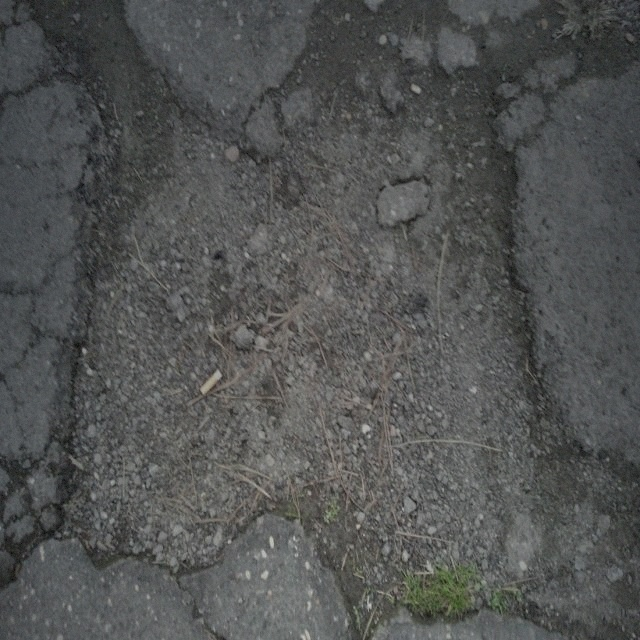pothole: (51, 52, 564, 623)
